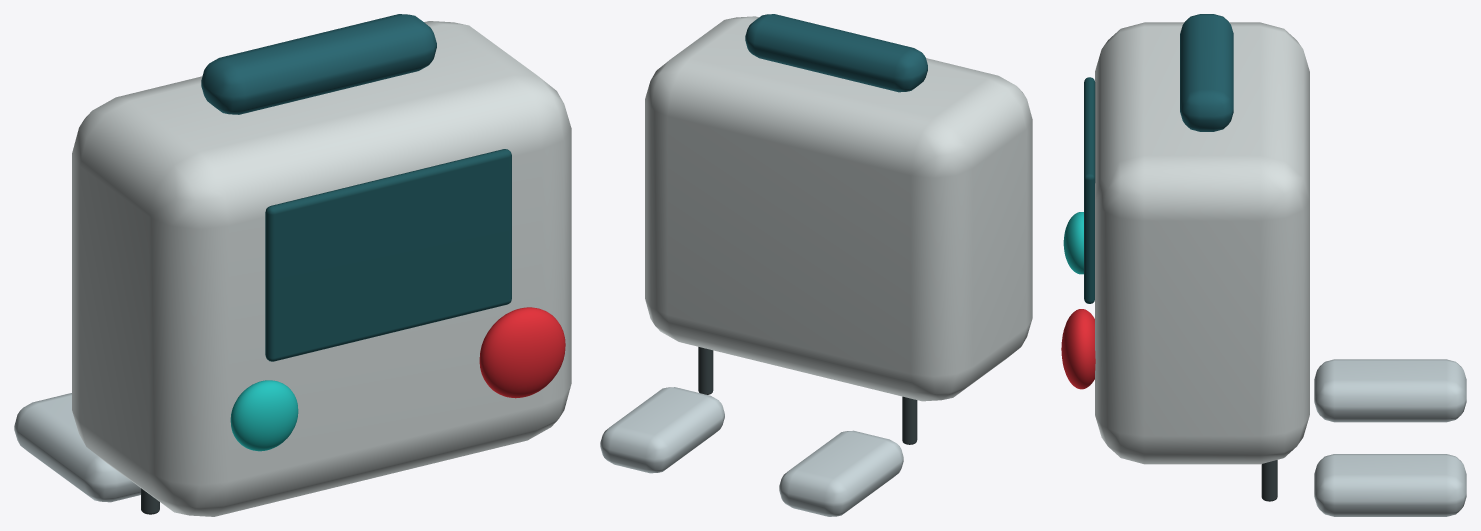
Rendered from Desfibrilador.fbx.
3 renders of one model, left to right at view 1: azimuth 30°, elevation 25°; view 2: azimuth 150°, elevation 25°; view 3: azimuth 270°, elevation 25°, orthographic. The views are drawn at different scales.
Parts seen in each view (by area): view 1: Carcasa_desfibrilador, Pantalla_desfibrilador, Asa_de_transporte, Paleta_de_desfibrilacion, Boton_de_descarga, Boton_de_energia; view 2: Carcasa_desfibrilador, Asa_de_transporte, Paleta_de_desfibrilacion_Parte_02, Paleta_de_desfibrilacion, Cable_de_paleta, Cable_de_paleta_Parte_02; view 3: Carcasa_desfibrilador, Paleta_de_desfibrilacion, Paleta_de_desfibrilacion_Parte_02, Asa_de_transporte, Pantalla_desfibrilador, Boton_de_descarga, Boton_de_energia, Cable_de_paleta_Parte_02.
Part boxes in pixels (box(x1,y1,x2,y2)): Carcasa_desfibrilador: box(72, 21, 571, 516); Pantalla_desfibrilador: box(265, 149, 511, 361); Asa_de_transporte: box(201, 14, 436, 114); Paleta_de_desfibrilacion: box(14, 393, 140, 502); Boton_de_descarga: box(479, 307, 565, 398); Boton_de_energia: box(230, 380, 298, 451); Carcasa_desfibrilador: box(645, 16, 1032, 401); Asa_de_transporte: box(745, 14, 927, 92); Paleta_de_desfibrilacion_Parte_02: box(600, 387, 724, 473); Paleta_de_desfibrilacion: box(779, 430, 903, 516); Cable_de_paleta: box(902, 396, 917, 444); Cable_de_paleta_Parte_02: box(698, 347, 713, 394); Carcasa_desfibrilador: box(1095, 22, 1309, 464); Paleta_de_desfibrilacion: box(1314, 359, 1466, 422); Paleta_de_desfibrilacion_Parte_02: box(1314, 454, 1466, 516); Asa_de_transporte: box(1180, 14, 1233, 131); Pantalla_desfibrilador: box(1084, 77, 1095, 303); Boton_de_descarga: box(1061, 309, 1095, 389); Boton_de_energia: box(1063, 212, 1083, 274); Cable_de_paleta_Parte_02: box(1261, 460, 1277, 501).
Size of the model in its own units: 0.9 by 1 by 0.905.
